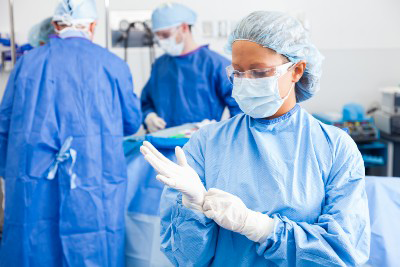Coverall: (158, 114, 370, 266), (1, 38, 139, 263), (140, 47, 237, 122)
Gloves: (140, 140, 206, 213), (202, 187, 275, 245)
Goggles: (225, 64, 293, 89)
with_mask: (233, 74, 284, 117), (158, 37, 185, 57)
